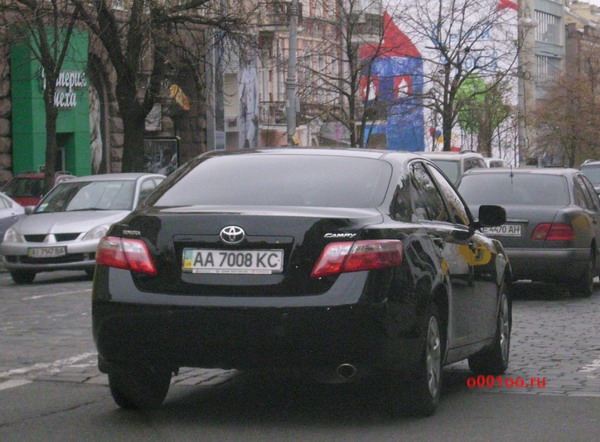car: (92, 147, 512, 416)
plate: (177, 246, 283, 273)
